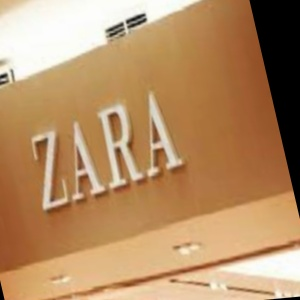zara: (137, 32, 215, 137)
